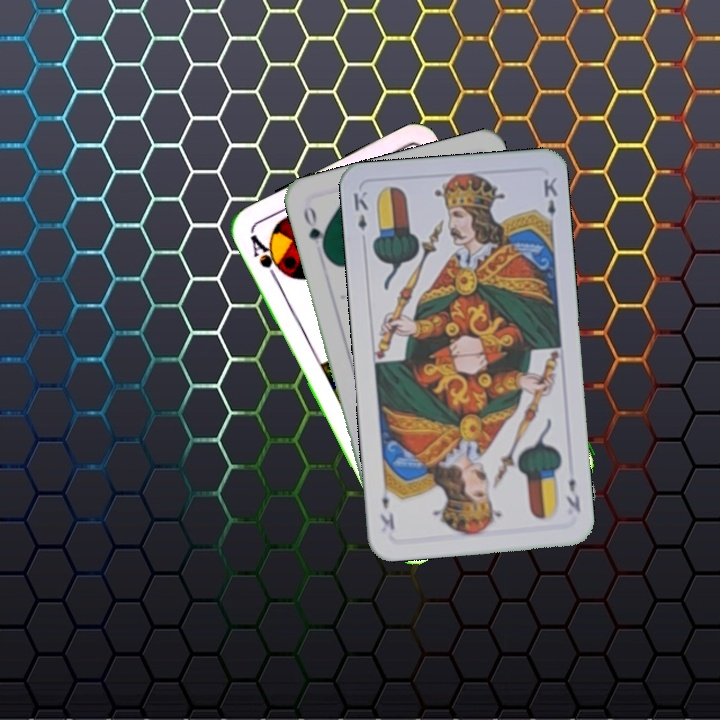EK: (349, 187, 370, 233), (562, 474, 583, 515)
GO: (299, 202, 329, 258)
SA: (246, 230, 289, 284)
